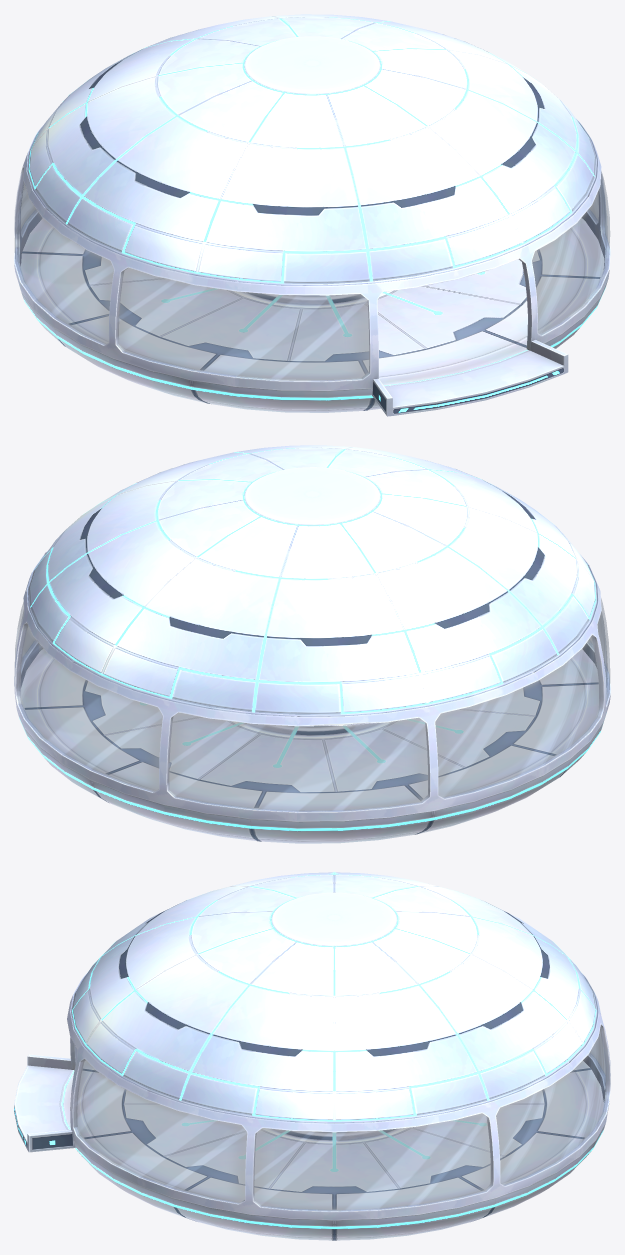
Rendered from obj_room06.gltf.
3 renders of one model, top to bottom at view 1: azimuth 30°, elevation 25°; view 2: azimuth 150°, elevation 25°; view 3: azimuth 270°, elevation 25°, orthographic. The views are drawn at different scales.
Visible parts, largest first — view 1: obj_room06; view 2: obj_room06; view 3: obj_room06.
Part boxes in pixels (x1,y1,x2,y2): obj_room06: (14, 14, 610, 416); obj_room06: (14, 445, 610, 843); obj_room06: (14, 872, 610, 1240).
Size of what is drawn, in the model's own units: 23.66 by 12 by 25.57.
Materials: 10 (10 with a texture image).
